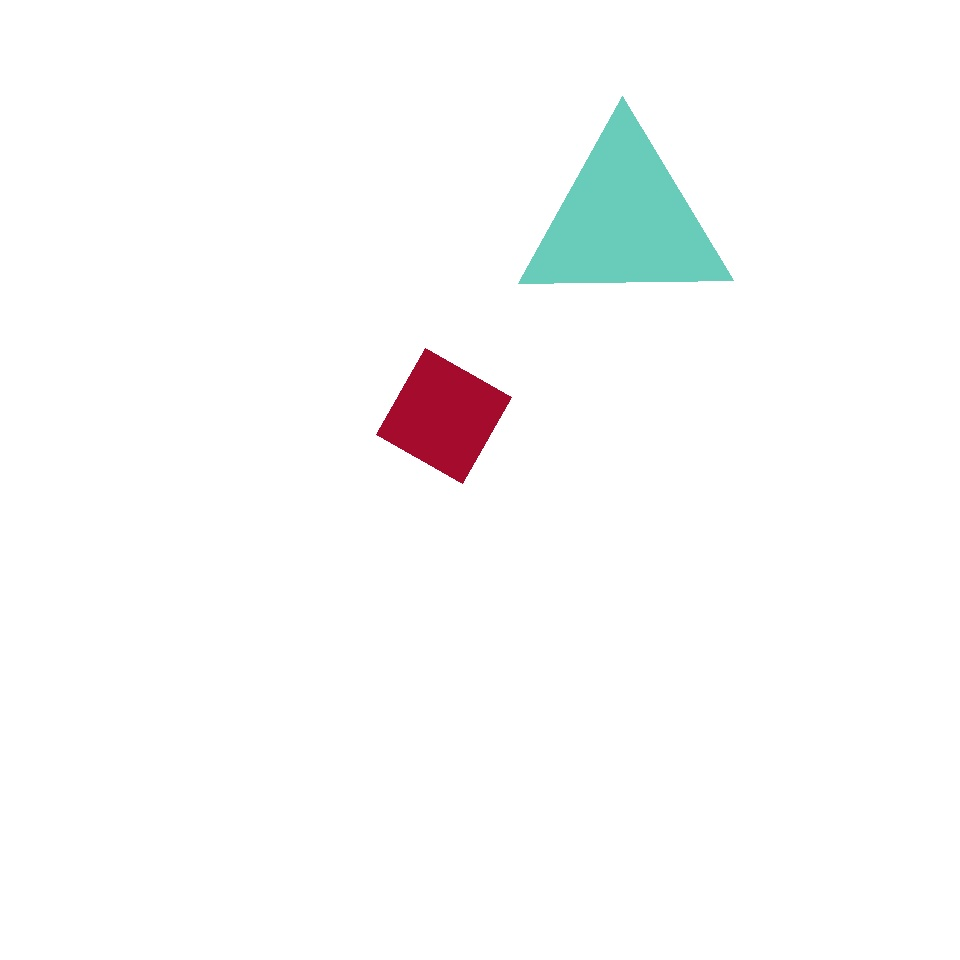circle: (518, 126, 732, 314), (652, 586, 818, 744), (115, 550, 277, 700)
square: (432, 136, 622, 324), (376, 348, 512, 484)
triangle: (292, 482, 532, 722)
